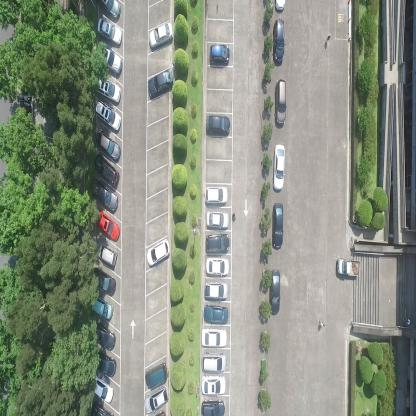car: (93, 127, 121, 162), (94, 99, 122, 133), (93, 153, 119, 187), (92, 179, 118, 213), (93, 210, 120, 242), (146, 235, 171, 269), (94, 75, 121, 104), (144, 386, 169, 416), (97, 17, 122, 47), (148, 68, 172, 99), (97, 46, 123, 74), (149, 20, 173, 50), (145, 360, 169, 390), (92, 266, 115, 296), (90, 374, 113, 404), (92, 322, 115, 351), (272, 143, 285, 191), (269, 268, 282, 316), (91, 295, 114, 322), (93, 351, 116, 377), (272, 201, 284, 250), (200, 327, 228, 348), (274, 79, 286, 127), (205, 113, 231, 135), (201, 350, 226, 372), (200, 375, 225, 396), (209, 43, 230, 67), (204, 280, 228, 301), (204, 303, 228, 324), (337, 257, 360, 278), (206, 209, 230, 229), (206, 233, 230, 253), (274, 18, 284, 65), (206, 256, 230, 275), (97, 243, 116, 267), (200, 398, 225, 416), (205, 185, 228, 204), (98, 0, 122, 18), (91, 401, 116, 415), (274, 0, 286, 14)
